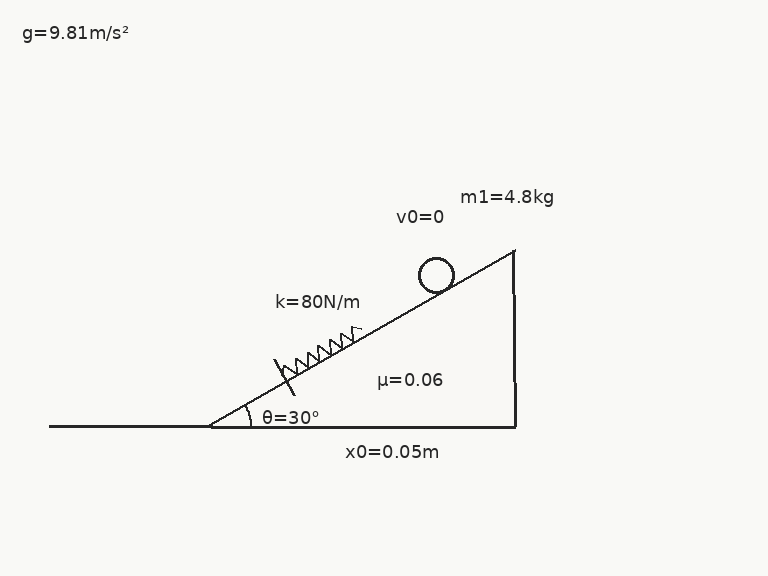ball: (416, 255, 456, 295)
ramp: (209, 249, 517, 428)
spring: (280, 324, 364, 376)
